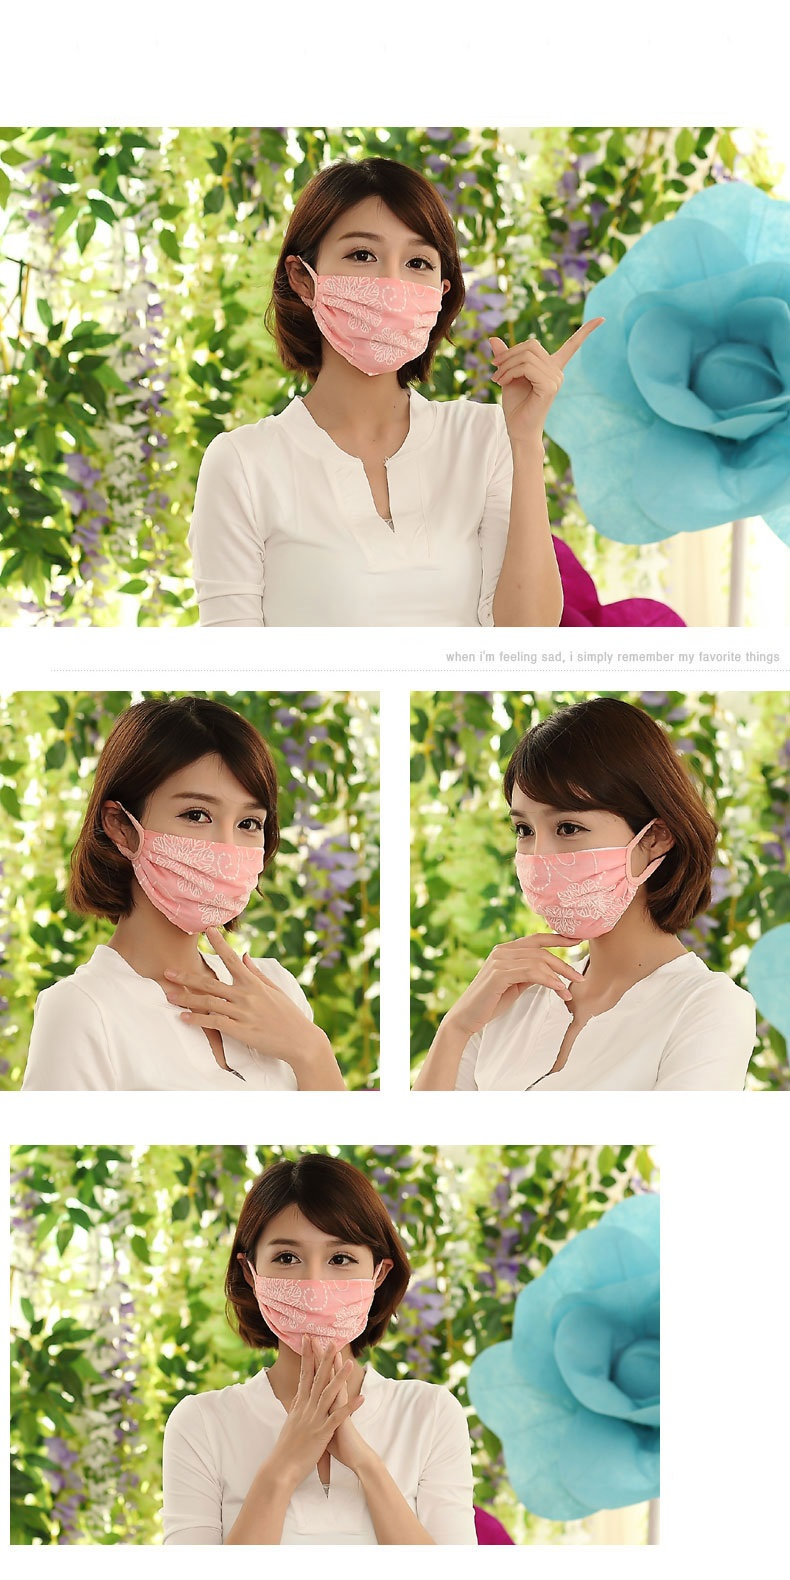face_mask: (143, 762, 266, 938), (509, 774, 630, 942), (329, 210, 442, 376), (259, 1214, 371, 1359)
